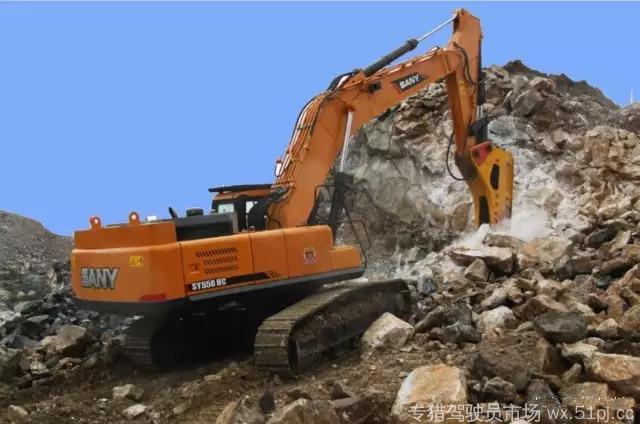excavator: (73, 10, 518, 363)
